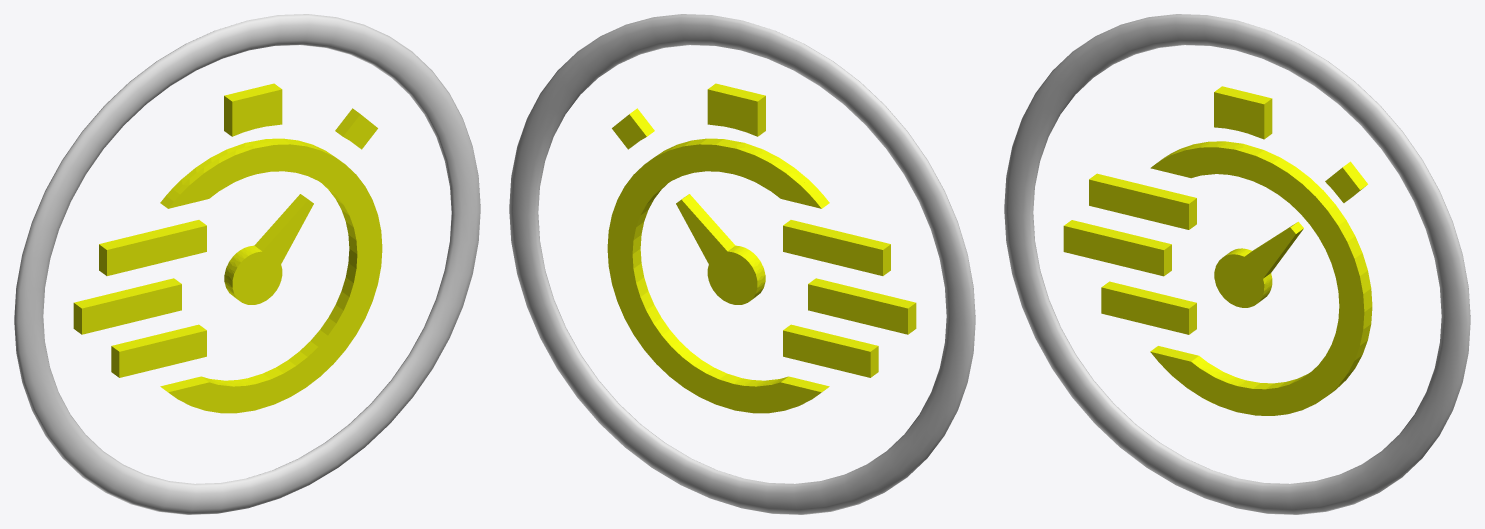
File: ReloadSpeedItem.fbx
3 views of the same model, side by side, from view 1: azimuth 30°, elevation 25°; view 2: azimuth 150°, elevation 25°; view 3: azimuth 330°, elevation 25° (orthographic).
Parts seen in each view (by area): view 1: RIng, ReloadSpeedItem; view 2: RIng, ReloadSpeedItem; view 3: RIng, ReloadSpeedItem.
Part boxes in pixels (x1=…): RIng: x1=14, y1=14, x2=480, y2=514; ReloadSpeedItem: x1=73, y1=83, x2=382, y2=413; RIng: x1=509, y1=14, x2=975, y2=514; ReloadSpeedItem: x1=607, y1=83, x2=916, y2=413; RIng: x1=1004, y1=14, x2=1470, y2=514; ReloadSpeedItem: x1=1063, y1=86, x2=1372, y2=415.
Bounding box in the file's own units: 200 × 200 × 6.
